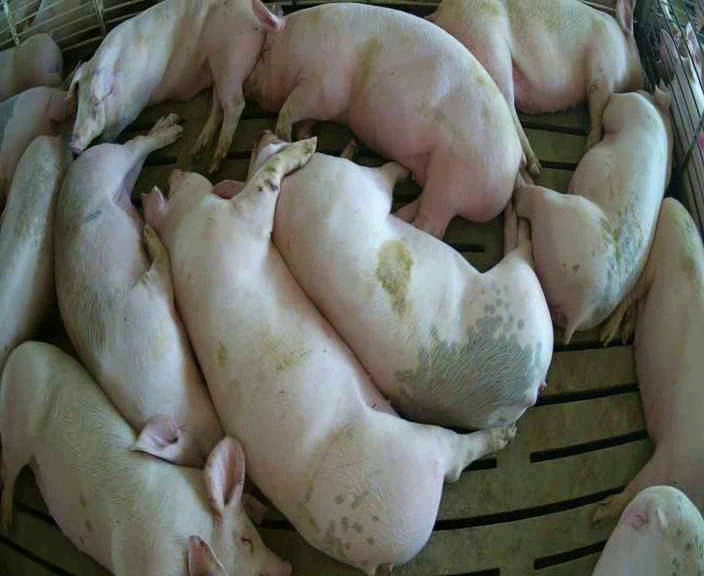pig: (144, 139, 513, 572), (246, 0, 525, 236), (56, 115, 222, 465), (514, 78, 671, 342), (429, 1, 649, 176), (596, 198, 703, 520), (67, 2, 266, 171), (0, 134, 72, 368), (0, 59, 80, 208), (594, 486, 703, 574), (0, 33, 61, 101)
